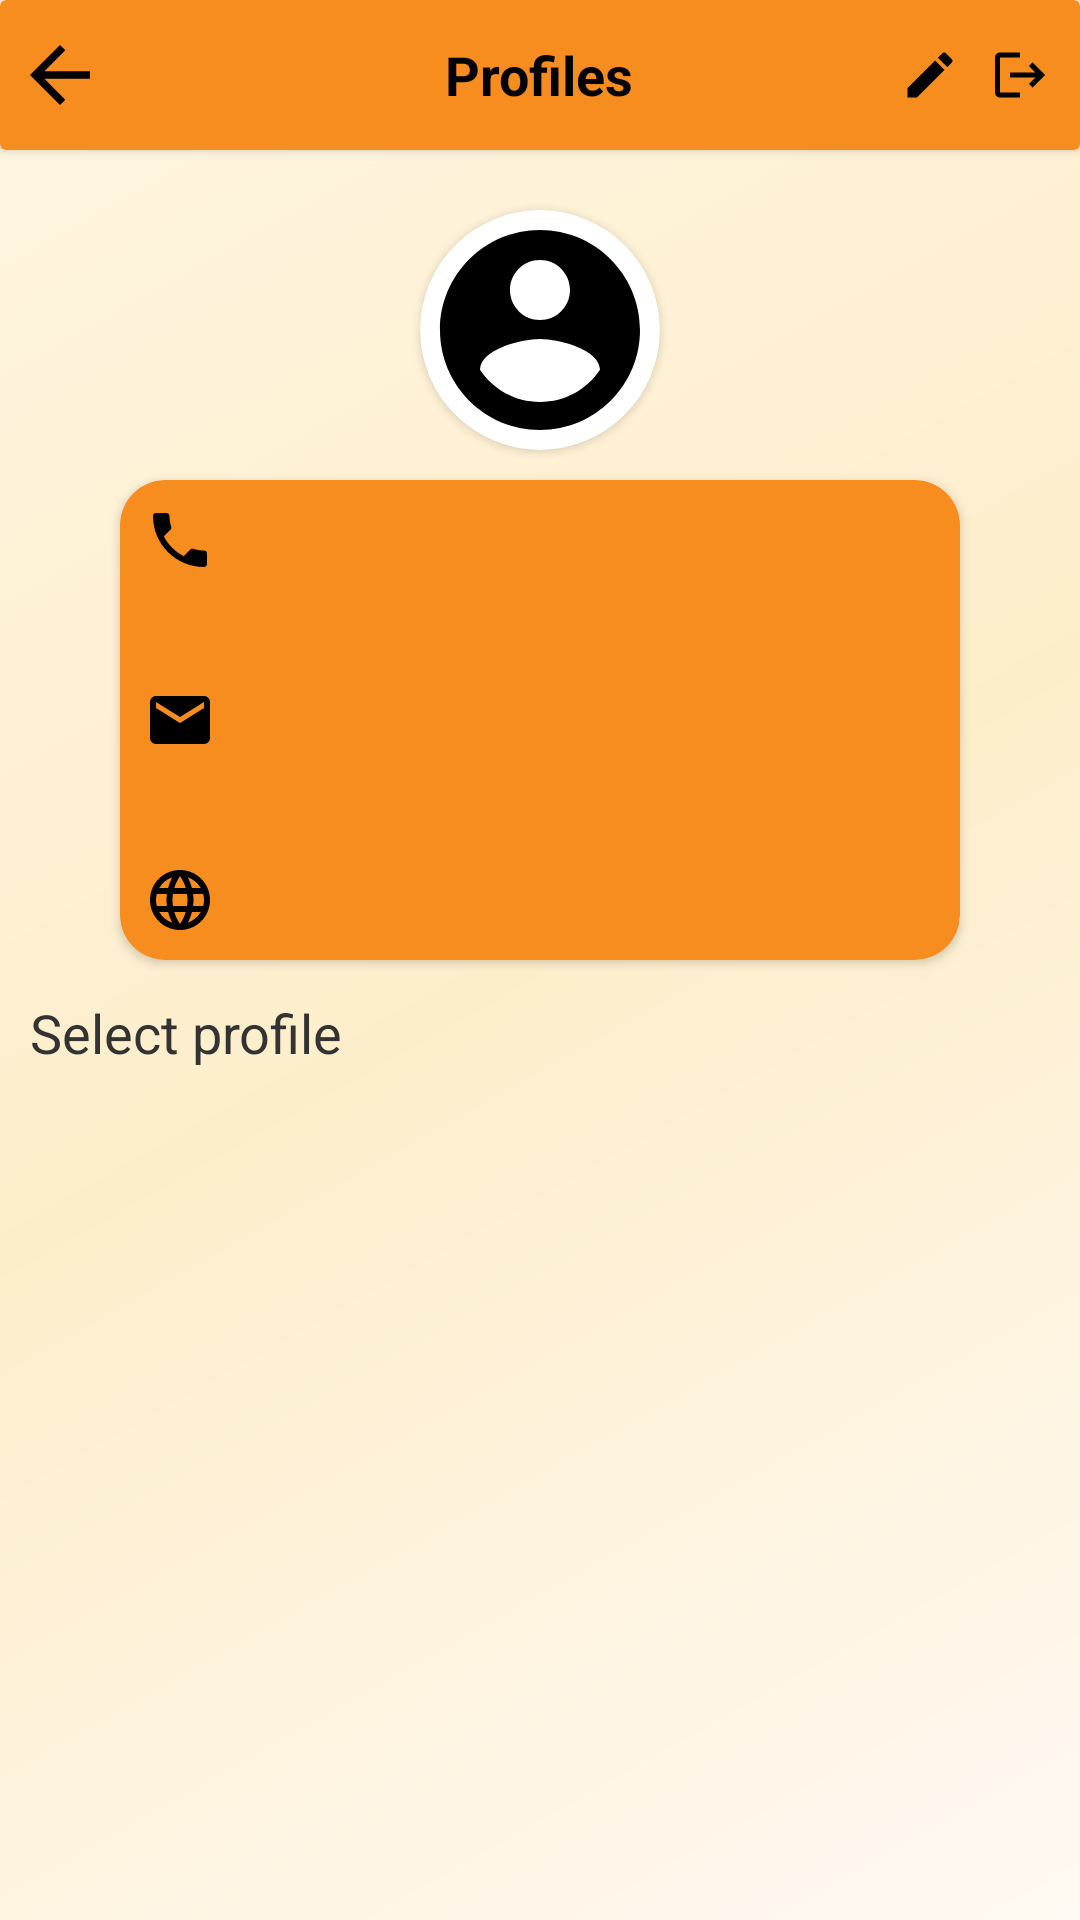

Icon click points for this 1080w x 1920h phone screenshot, format (x=x, y=y):
account circle: (x=540, y=330)
arrow back: (x=60, y=75)
edit: (x=930, y=75)
email: (x=180, y=720)
